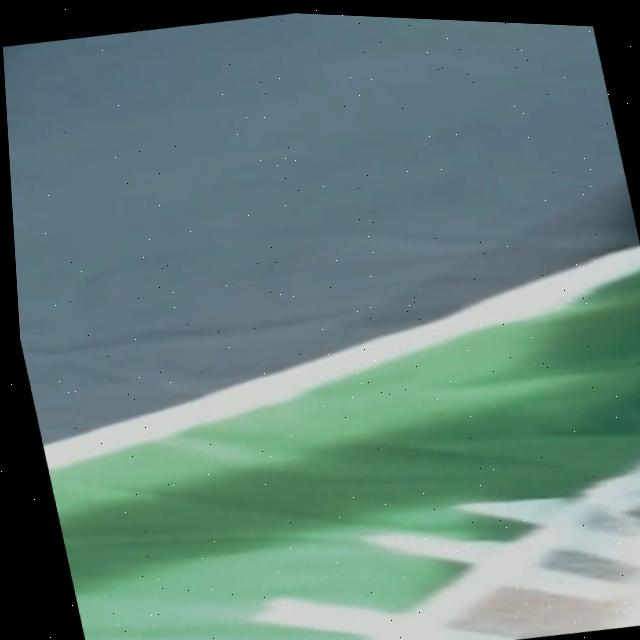right: (42, 246, 640, 470)
